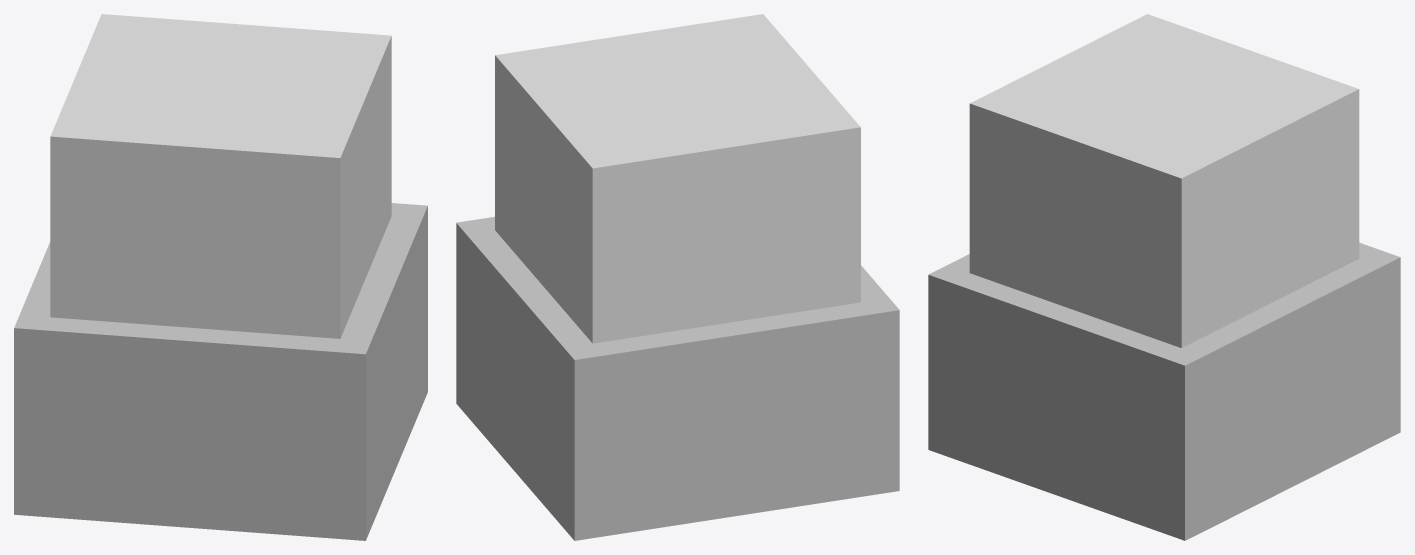
Rendered from JarraDeKlein.gltf.
The picture shows the model from 3 angles, left to right: view 1: azimuth 30°, elevation 25°; view 2: azimuth 150°, elevation 25°; view 3: azimuth 270°, elevation 25°; orthographic projection. The views are drawn at different scales.
Parts seen in each view (by area): view 1: JarraDeKlein; view 2: JarraDeKlein; view 3: JarraDeKlein.
Boxes of the visible parts, <box> form: JarraDeKlein: <box>14,14,427,540</box>; JarraDeKlein: <box>456,14,899,540</box>; JarraDeKlein: <box>928,14,1400,540</box>.
Size of the model in its own units: 2.07 by 1.66 by 2.07.
Materials: 1 (1 with a texture image).
